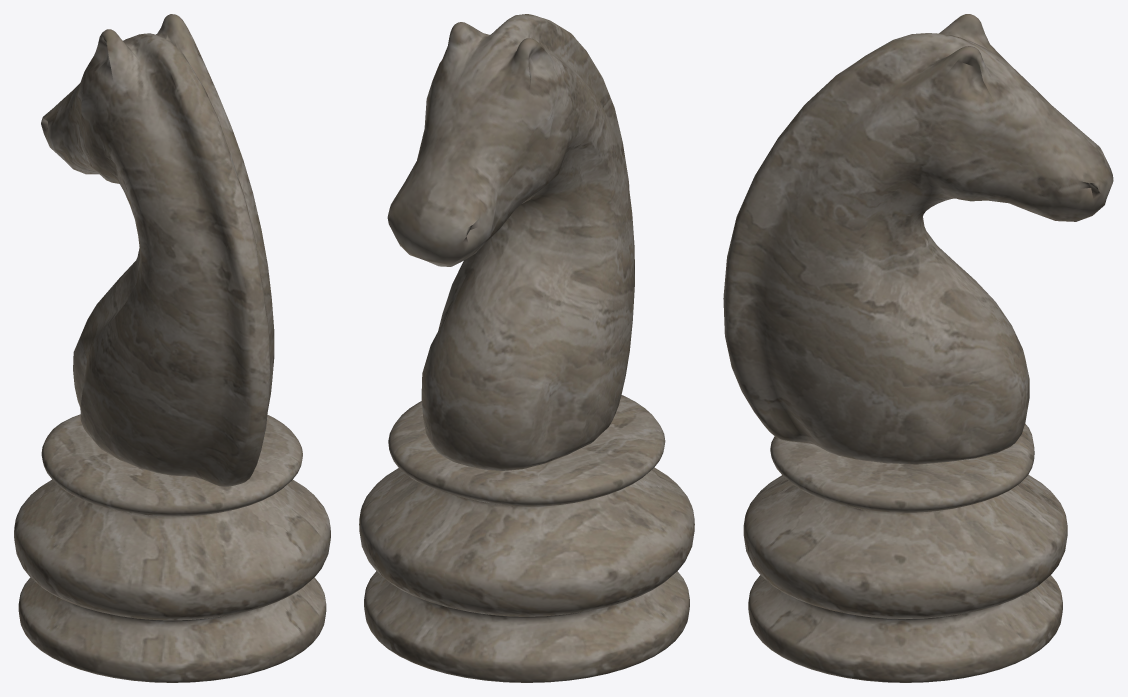
The model's file is W_Knight.glb.
3 views of the same model, side by side, from view 1: azimuth 30°, elevation 25°; view 2: azimuth 150°, elevation 25°; view 3: azimuth 270°, elevation 25° (orthographic). The views are drawn at different scales.
Visible parts, largest first — view 1: Knight_W1; view 2: Knight_W1; view 3: Knight_W1.
Boxes of the visible parts, x1,y1,x2,y2 form: Knight_W1: (14, 14, 330, 682); Knight_W1: (359, 14, 694, 682); Knight_W1: (723, 14, 1113, 682).
Size of the model in its own units: 0.05 by 0.1001 by 0.0602.
1 material, 1 textured.
